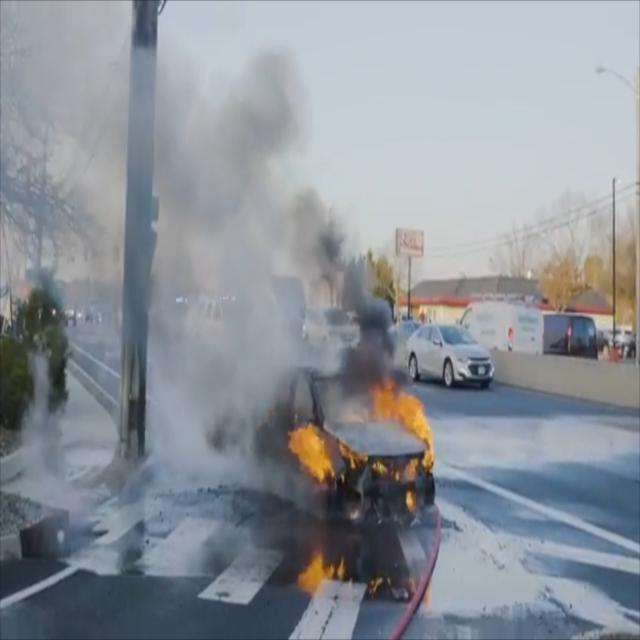fire: (285, 370, 440, 500), (289, 547, 412, 596)
